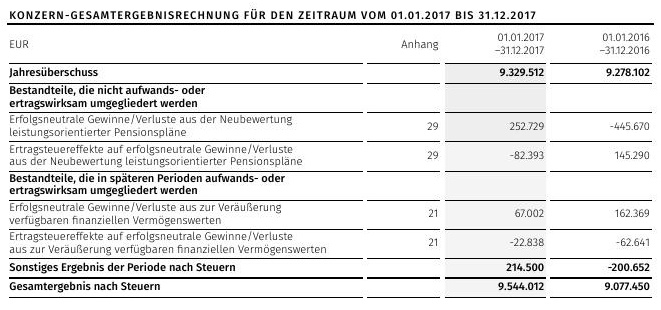table: (0, 0, 661, 310)
